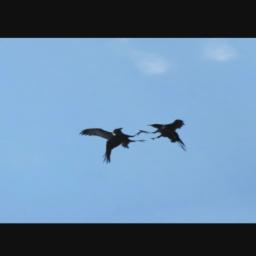Crow: (76, 119, 163, 166)
